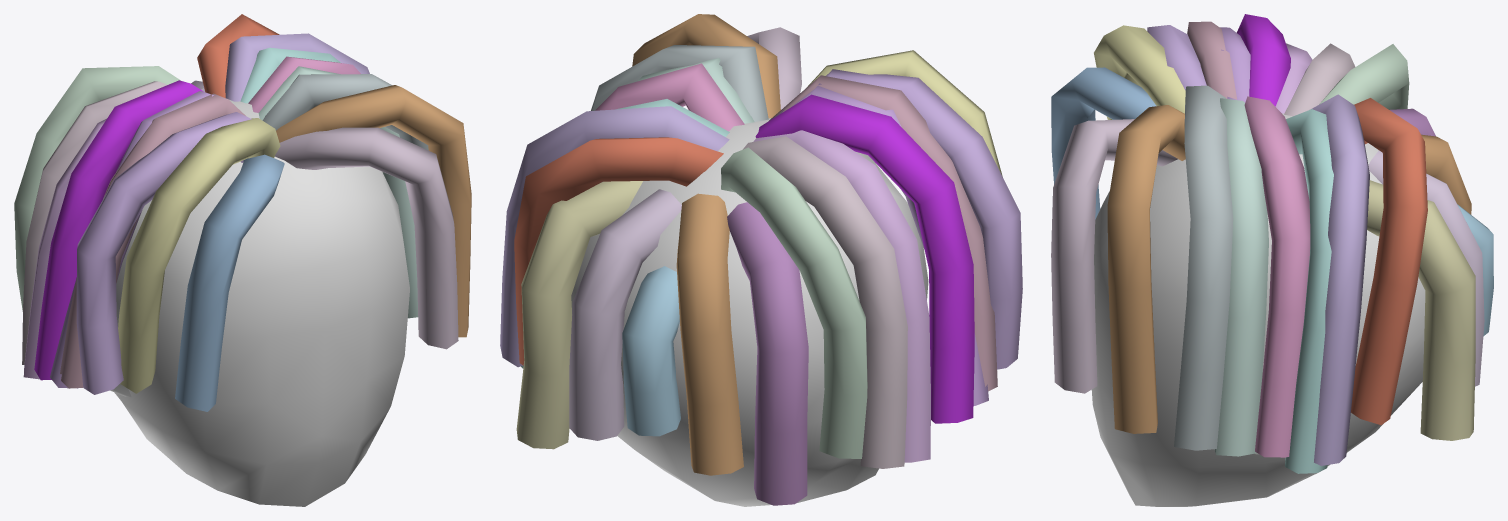
Rendered from Hair4.glb.
3 renders of one model, left to right at view 1: azimuth 30°, elevation 25°; view 2: azimuth 150°, elevation 25°; view 3: azimuth 270°, elevation 25°, orthographic. The views are drawn at different scales.
Parts seen in each view (by area): view 1: Head 01; view 2: Head 01; view 3: Head 01.
Part boxes in pixels (bbox=[...]): Head 01: bbox=[14, 14, 471, 506]; Head 01: bbox=[500, 14, 1022, 506]; Head 01: bbox=[1051, 14, 1493, 506].
Bounding box in the file's own units: 0.7309 × 0.6849 × 0.6449.
